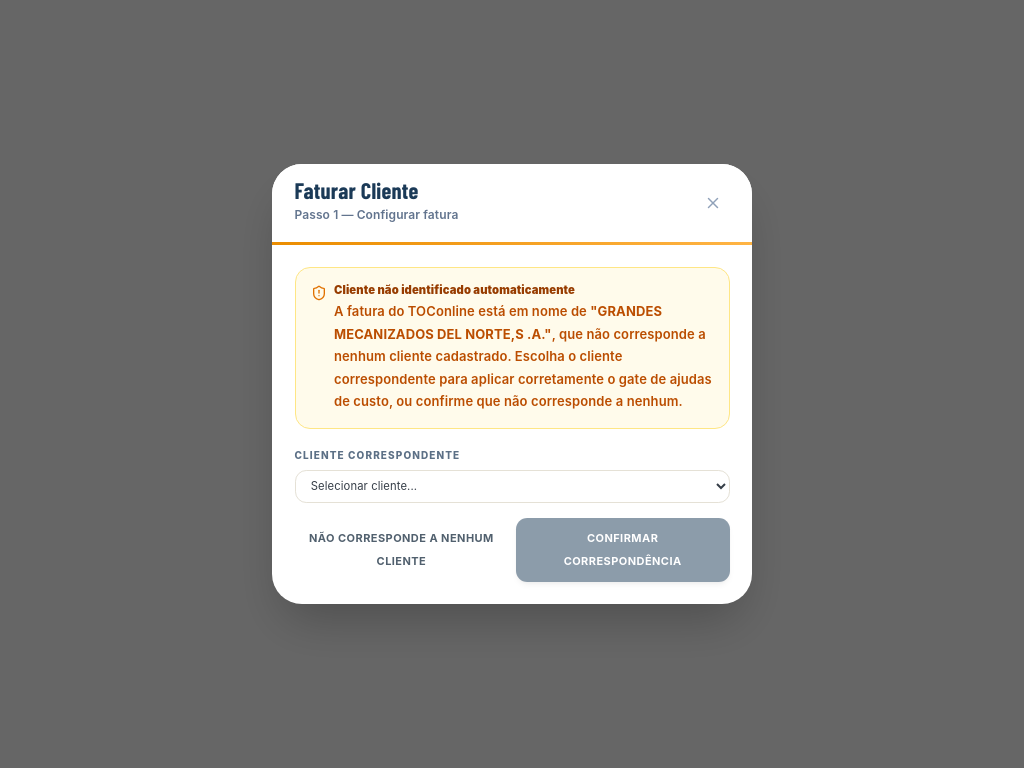
Test case: FaturarClienteModal — resolução manual de clientes "toc:" (Fase 2b, Ponto 2) › confirmar "não corresponde a nenhum cliente" liberta o formulário sem exigir associação a um cliente
The width and height of the screenshot is (1024, 768).
Step 1. Click the button "Não corresponde a nenhum cliente" → (401, 550), box [294, 518, 508, 582]
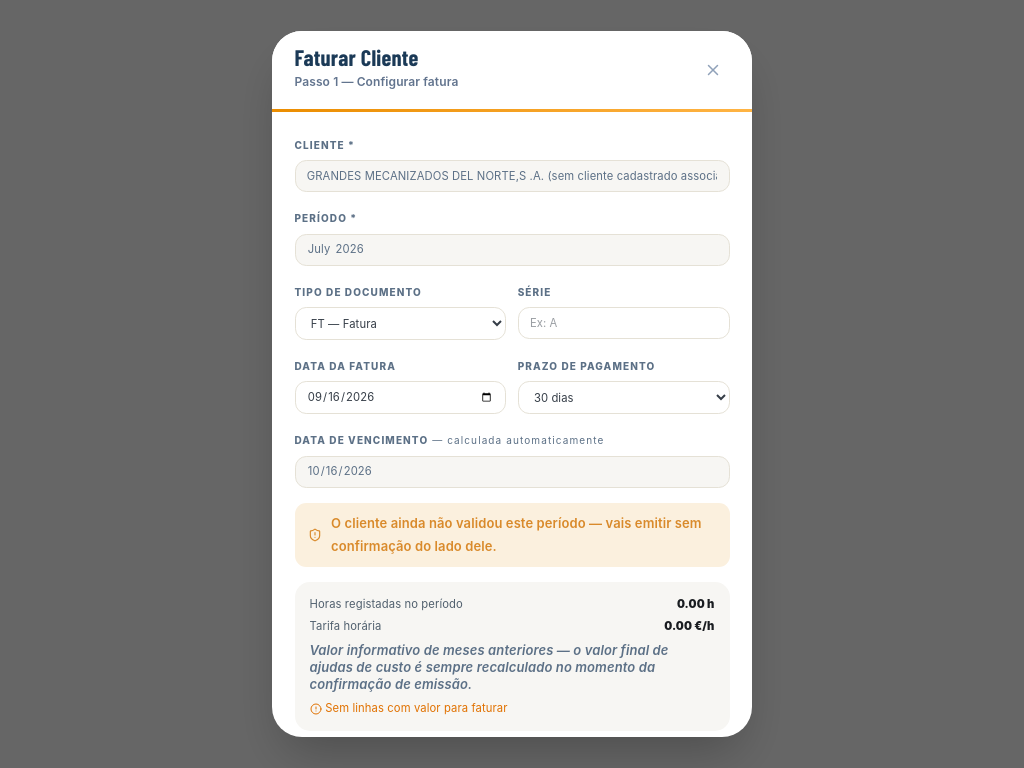
Expected: the text "Cliente não identificado automaticamente" is gone
Expected: the field showing "sem cliente cadastrado associado" below "Cliente *" is shown, [294, 160, 730, 192]
